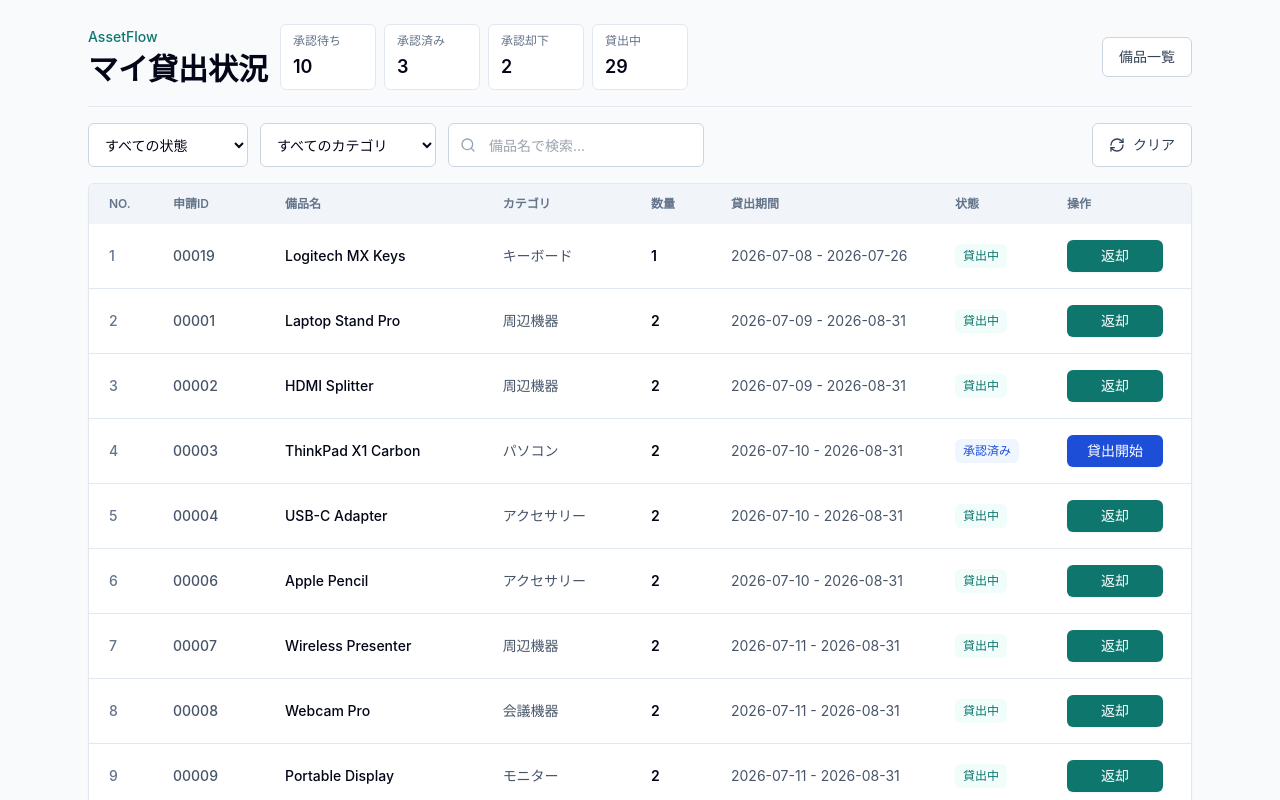
Test: MyLoanRequestPage › 037: クリアで検索条件を初期化して全44件の先頭20件へ戻す
Select "貸出中" in the dropdown named "ステータスで絞り込み" at (168, 145), box [88,123,248,167]
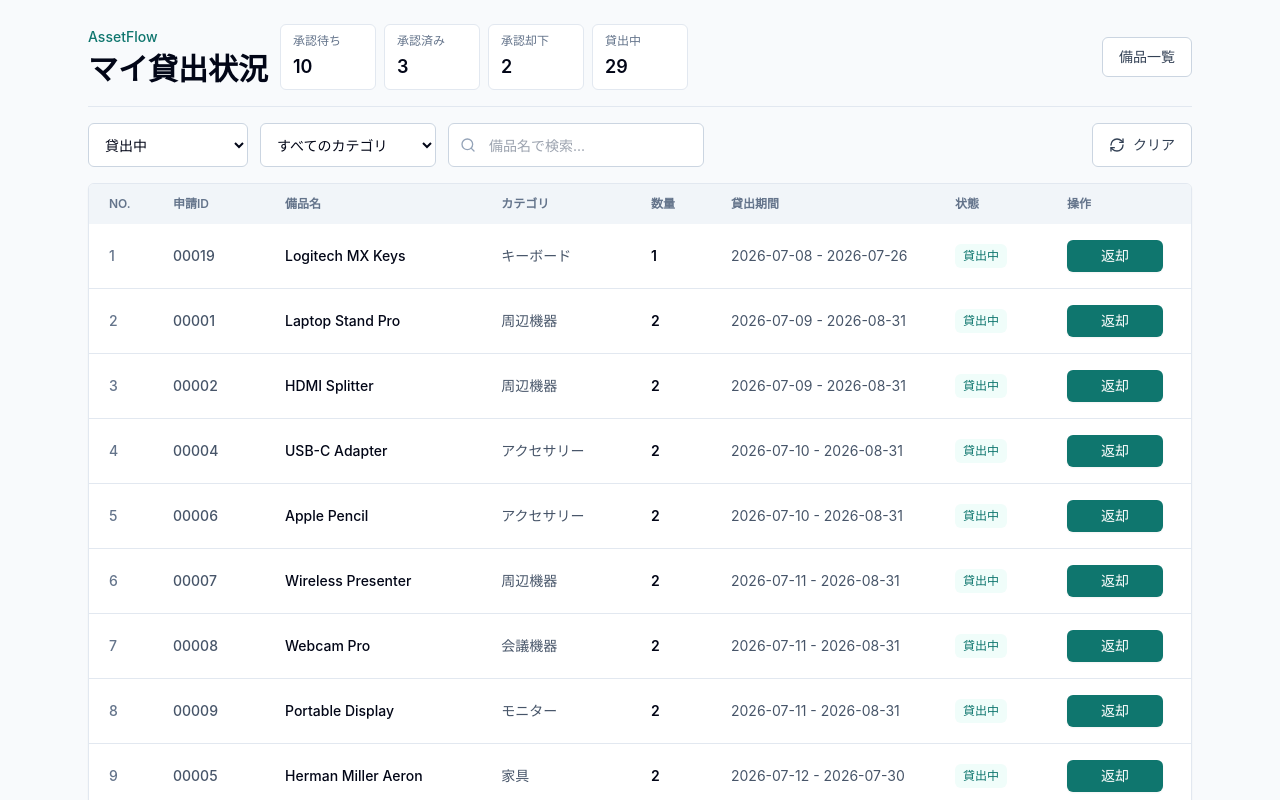
Select "キーボード" in the dropdown named "カテゴリで絞り込み" at (348, 145), box [260,123,436,167]
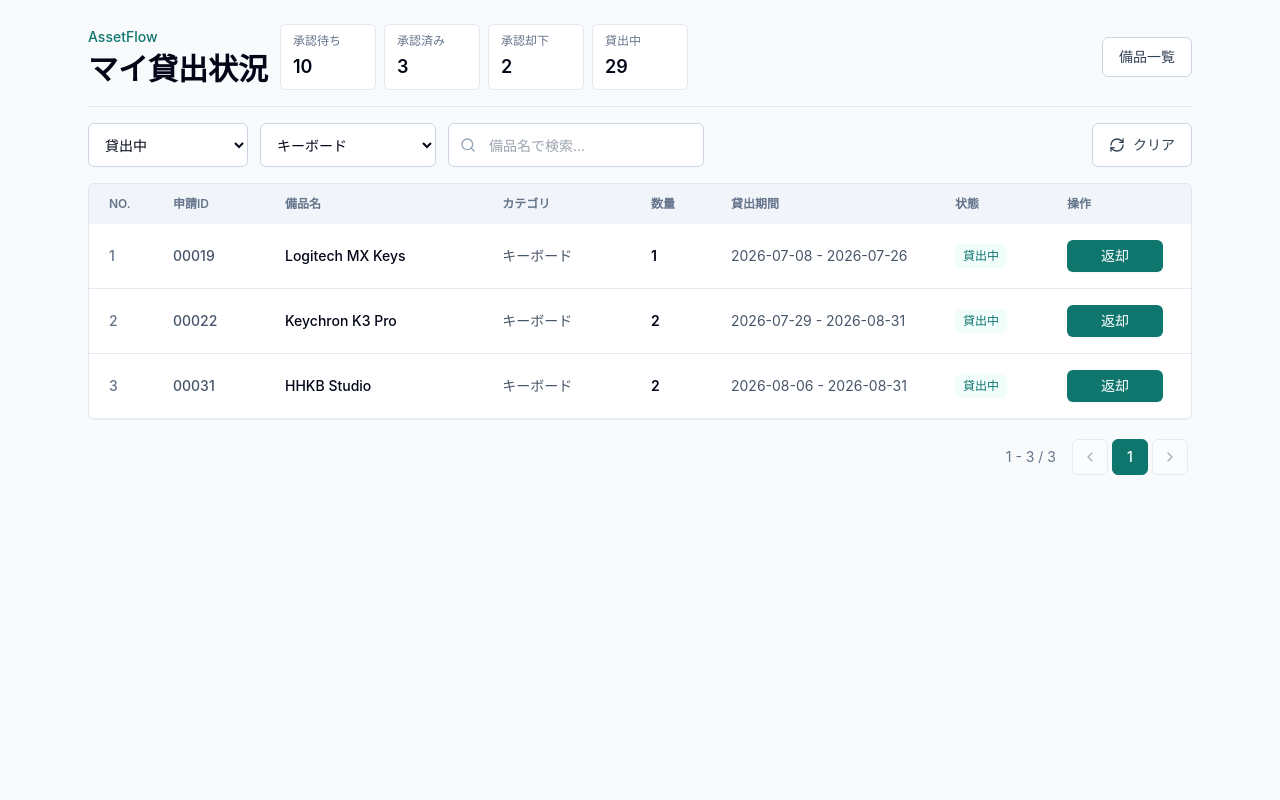
Type "h" into the search field with placeholder "備品名で検索..." at (576, 145), box [448,123,704,167]
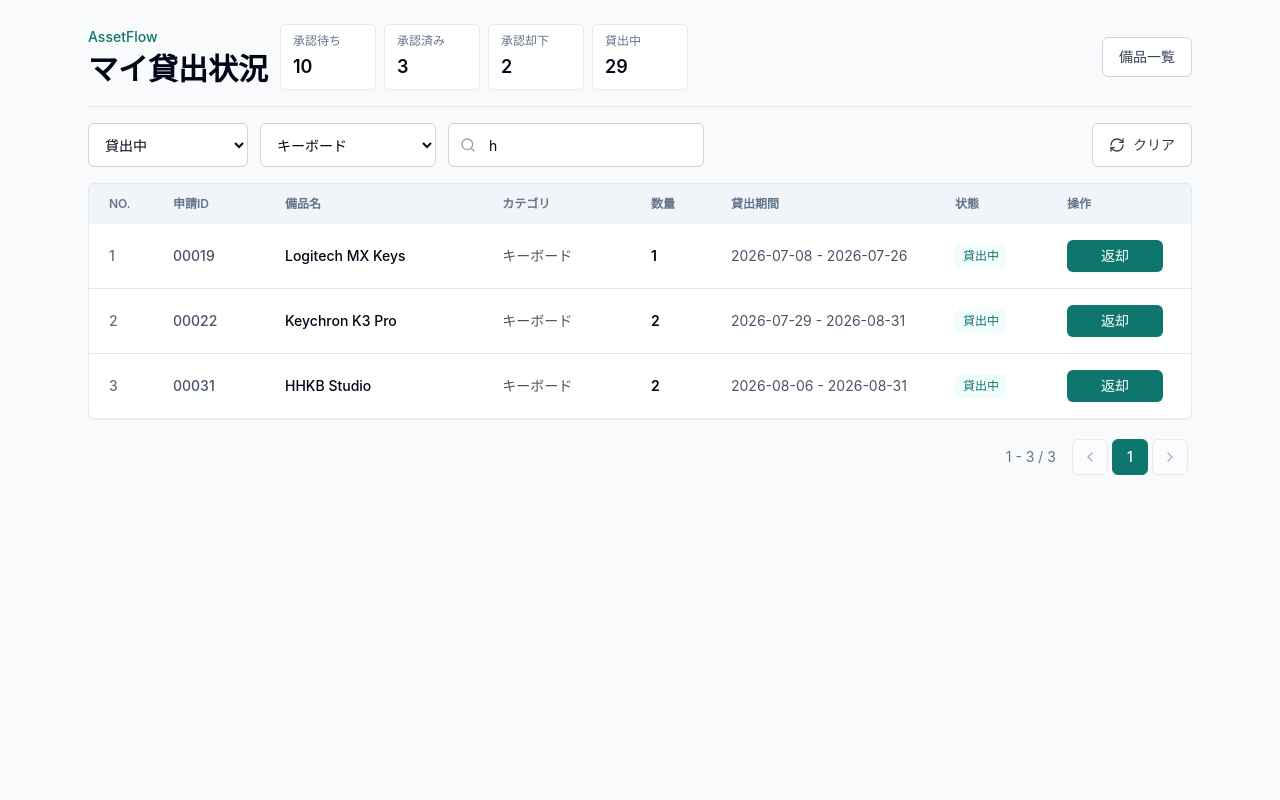
Click the button "クリア" at (1142, 145), box [1092,123,1192,167]
(page scrolled)
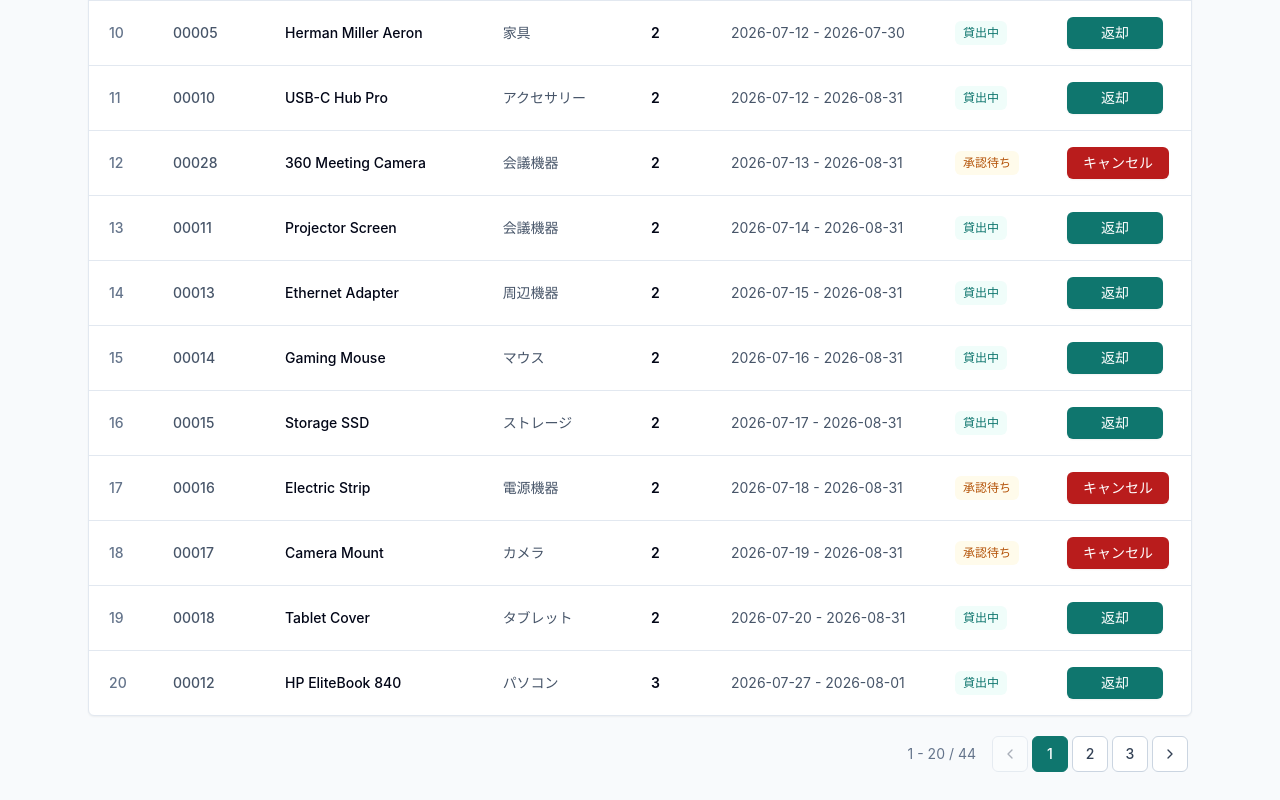
Result: the text "1 - 20 / 44" is shown at [908,744,976,764]
Result: the button "2" is enabled at [1072,736,1108,772]
Result: the button "3" is enabled at [1112,736,1148,772]
